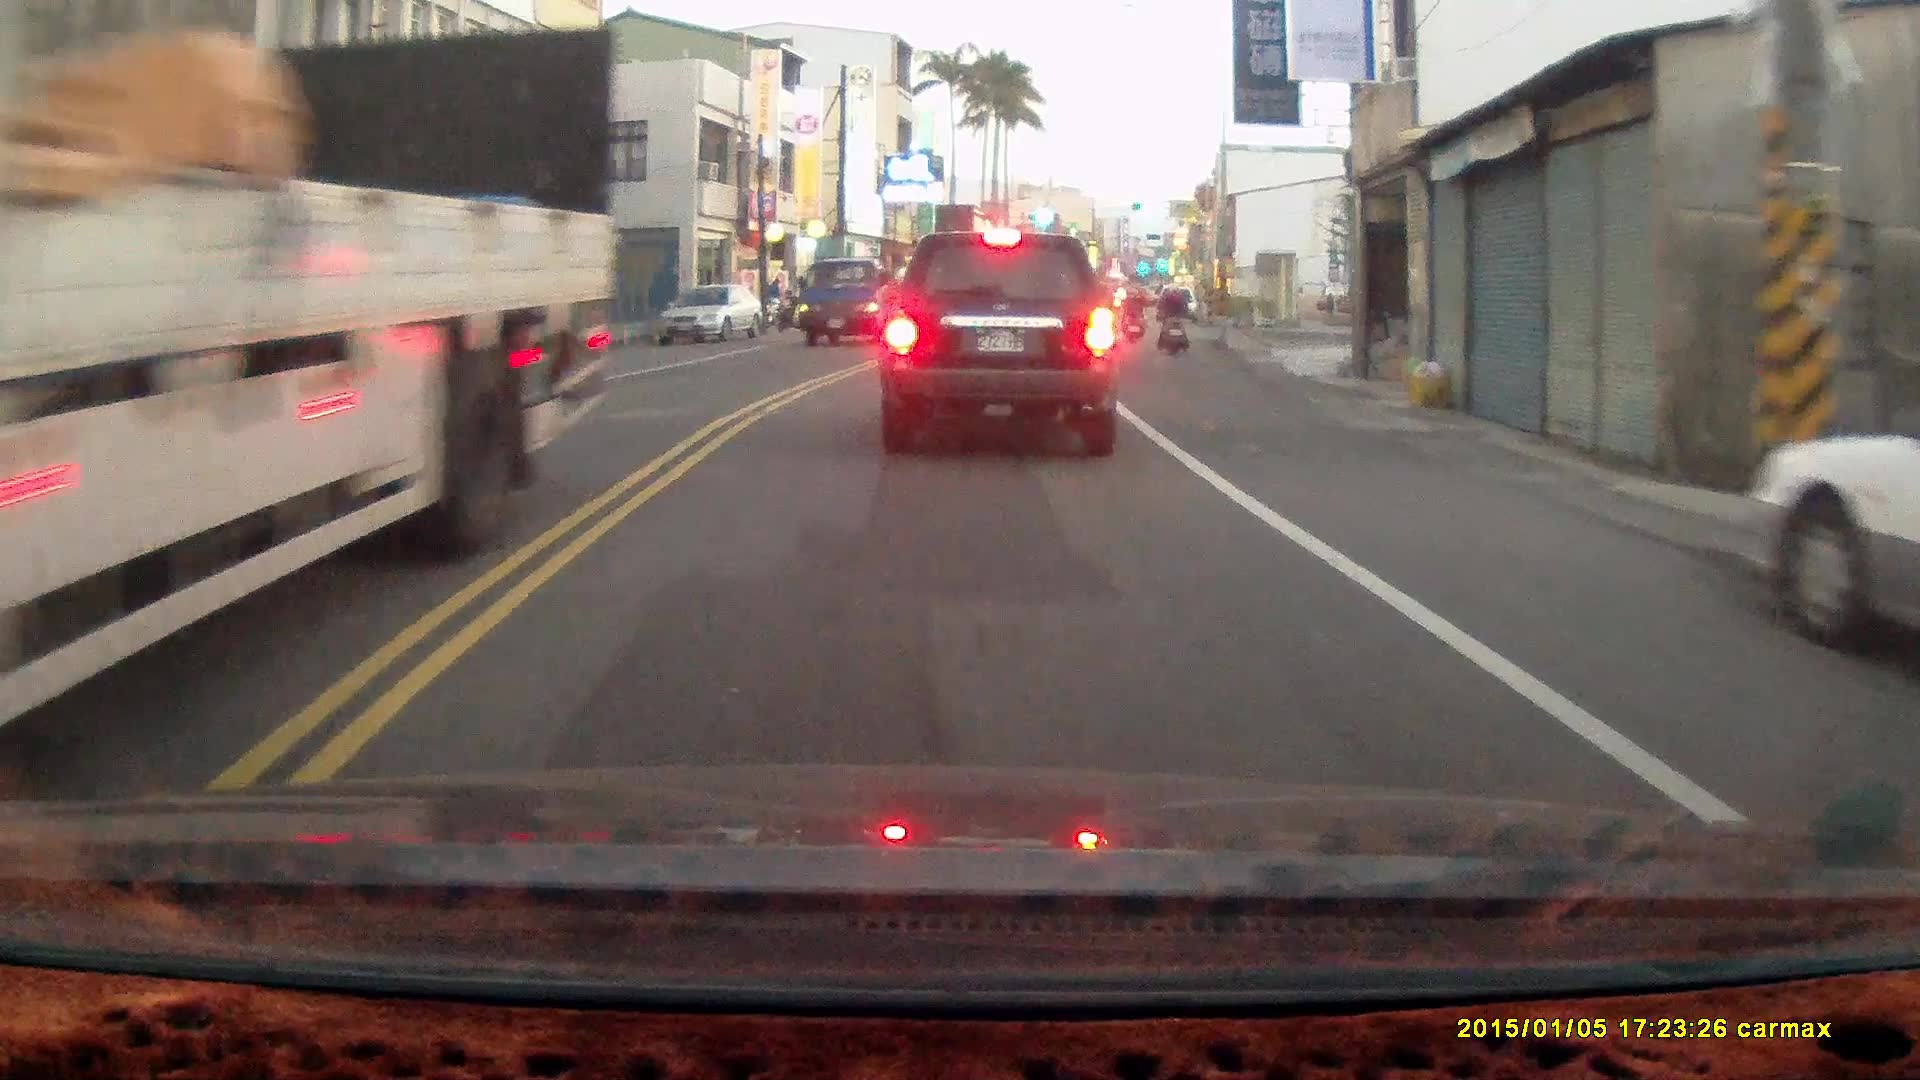rider: (1155, 277, 1186, 357), (1119, 281, 1146, 345)
vehicle: (2, 0, 597, 774), (878, 230, 1124, 459), (1744, 399, 1920, 651), (794, 256, 914, 350), (655, 283, 763, 345)
